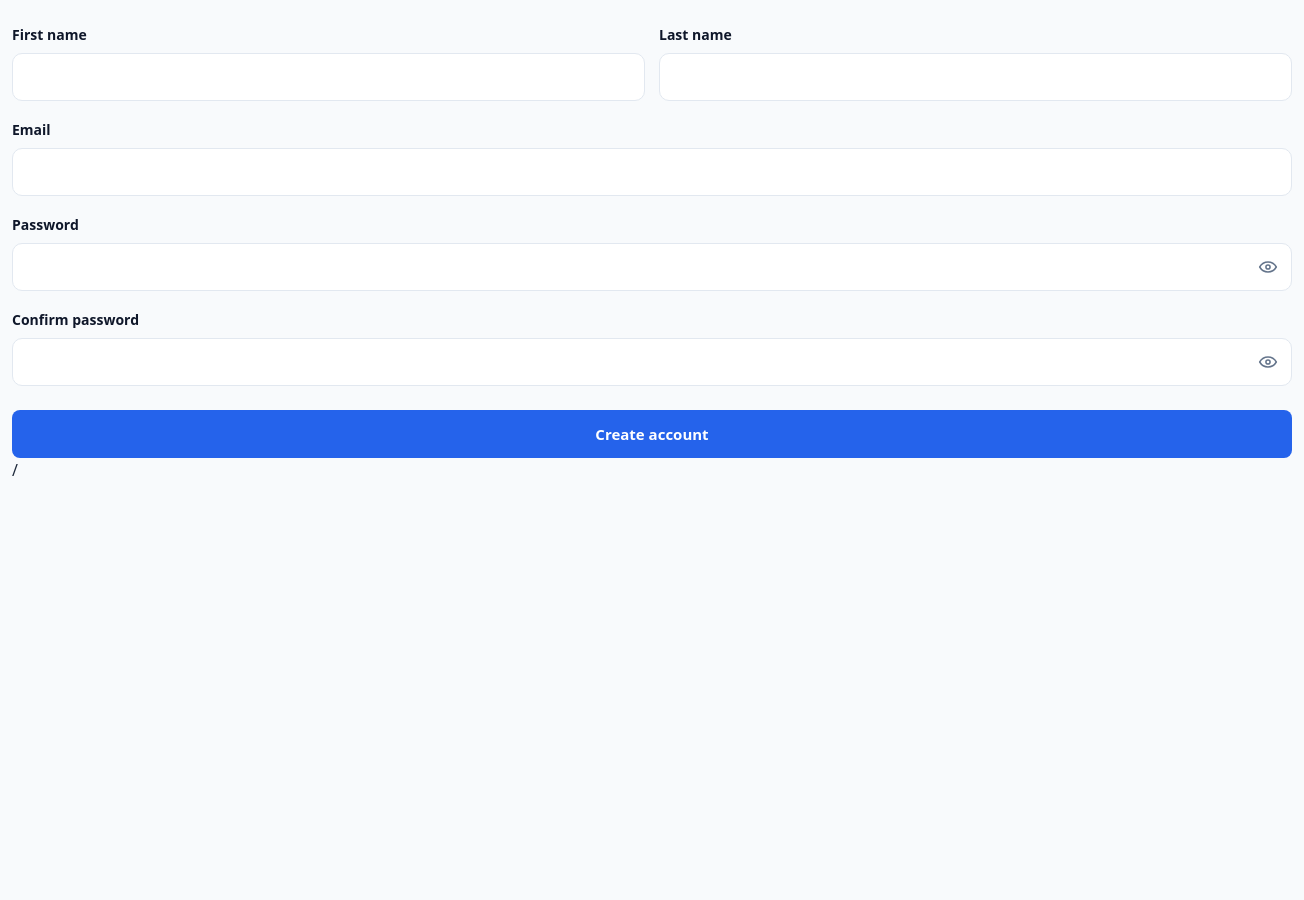
Test: RegisterForm › shows the duplicate email error from the backend
Type "Arash" into the field labelled "First name" at (328,77), box 12,53 -> 645,101
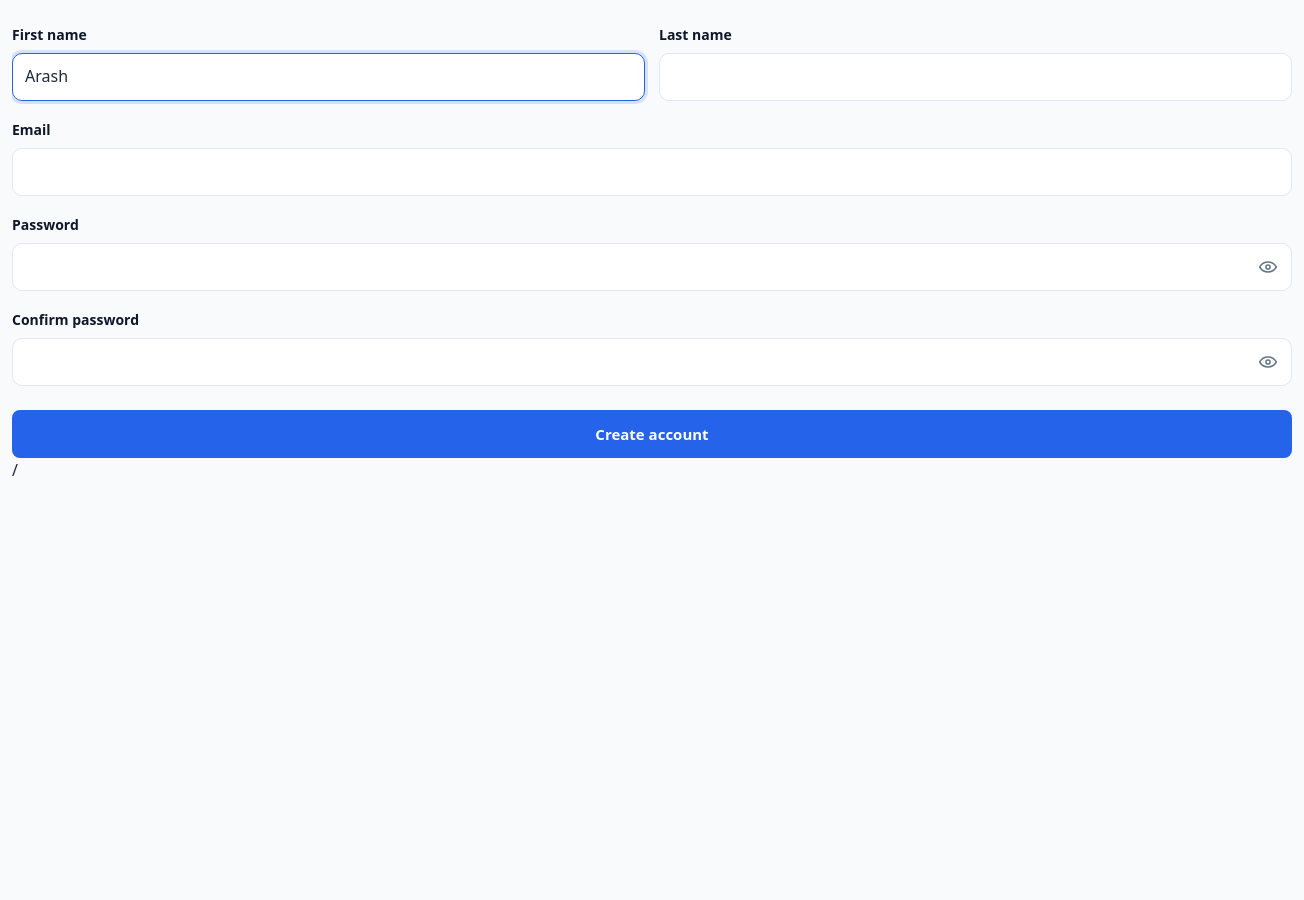
Type "Aghapour" into the field labelled "Last name" at (976,77), box 659,53 -> 1292,101
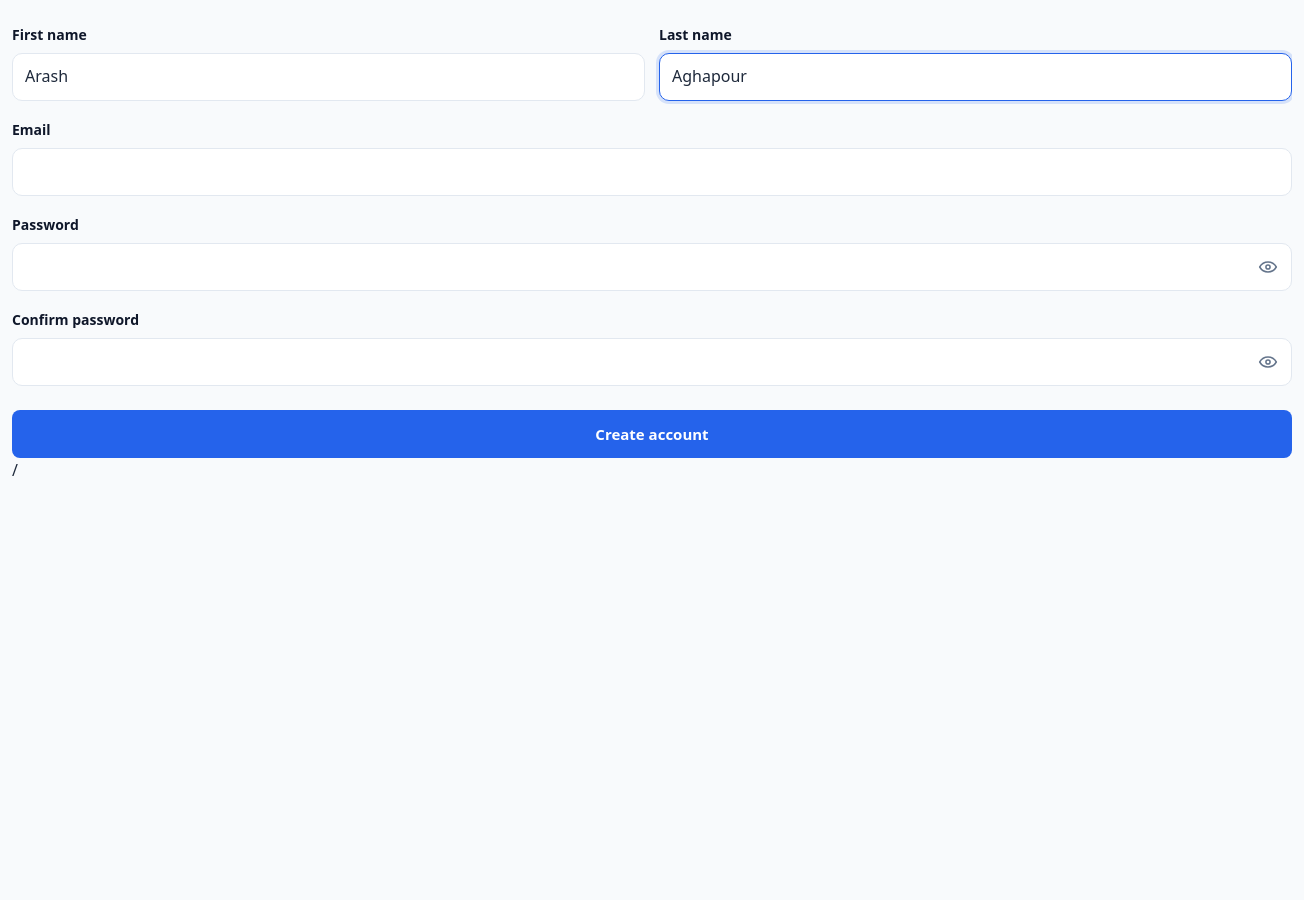
Type "user@example.com" into the field labelled "Email" at (652,172), box 12,148 -> 1292,196
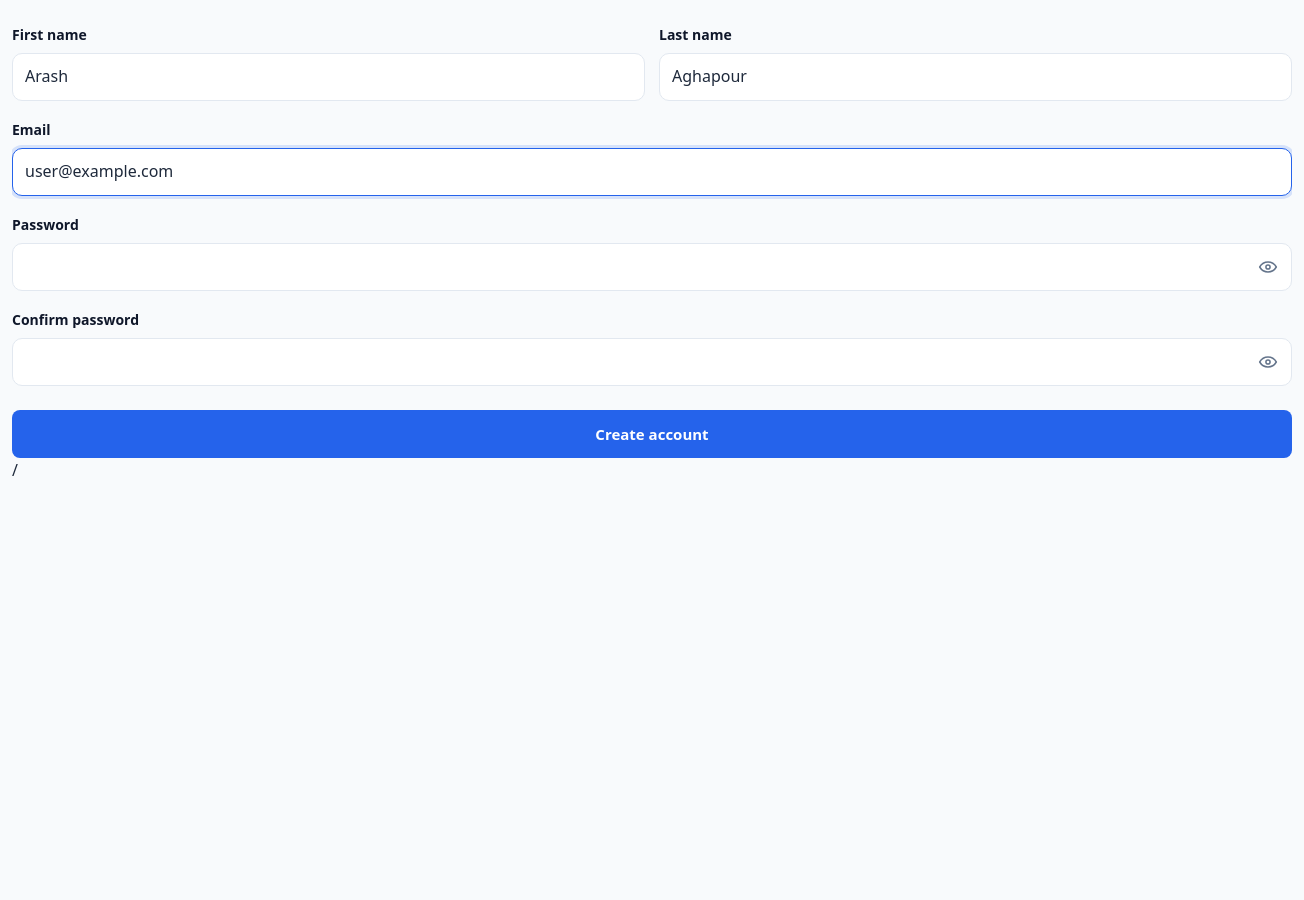
Type "password123" into the password field labelled "Password" at (652,267), box 12,243 -> 1292,291
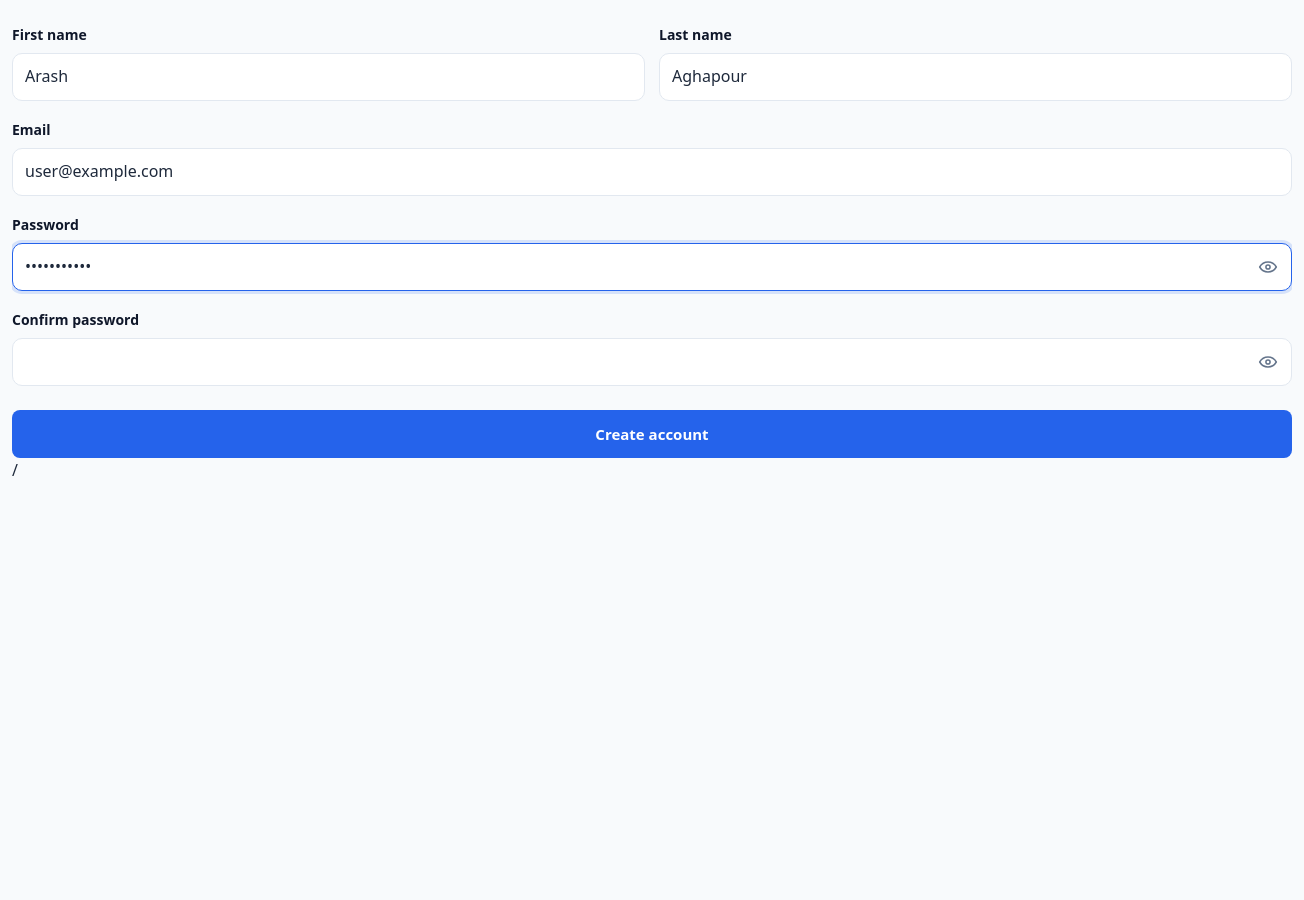
Type "password123" into the password field labelled "Confirm password" at (652,362), box 12,338 -> 1292,386
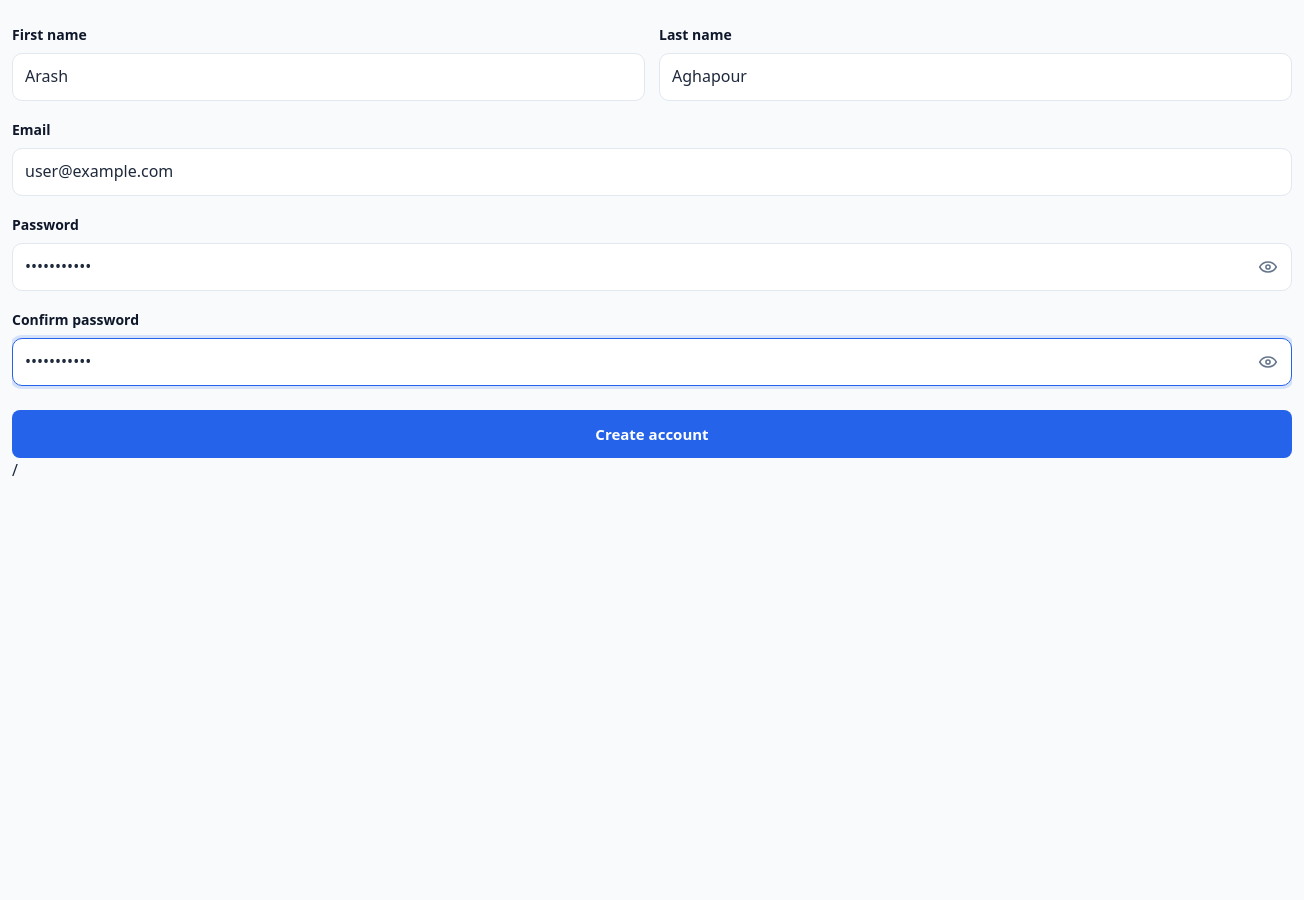
Click the button "Create account" at (652,434), box 12,410 -> 1292,458
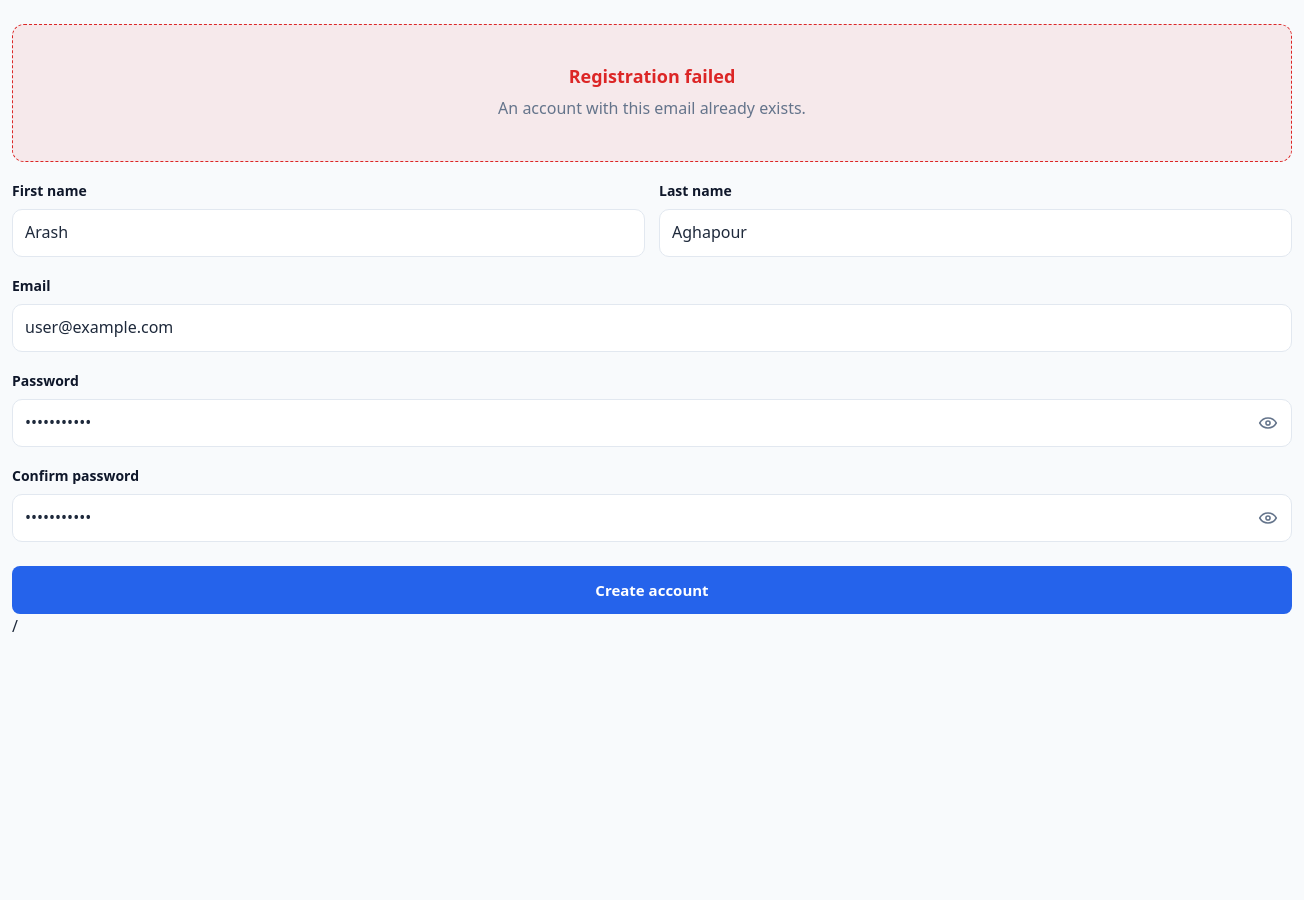
Check: the text "An account with this email already exists." is shown, box 498,96 -> 806,121
